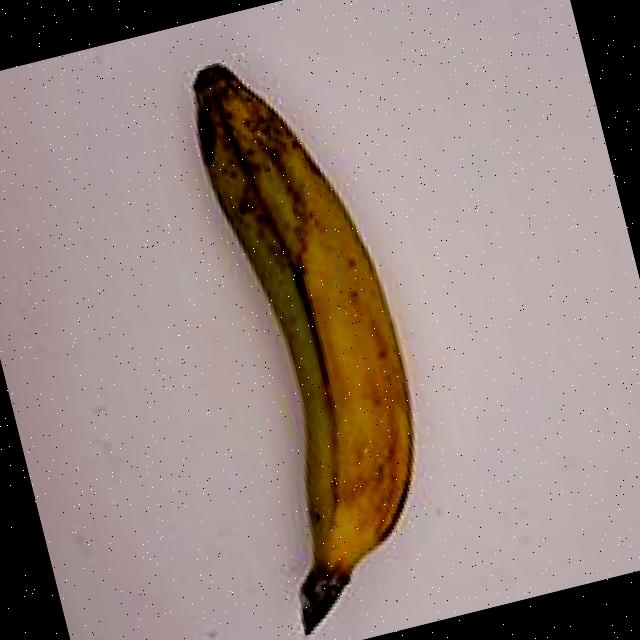Overripe: (107, 10, 511, 640)
